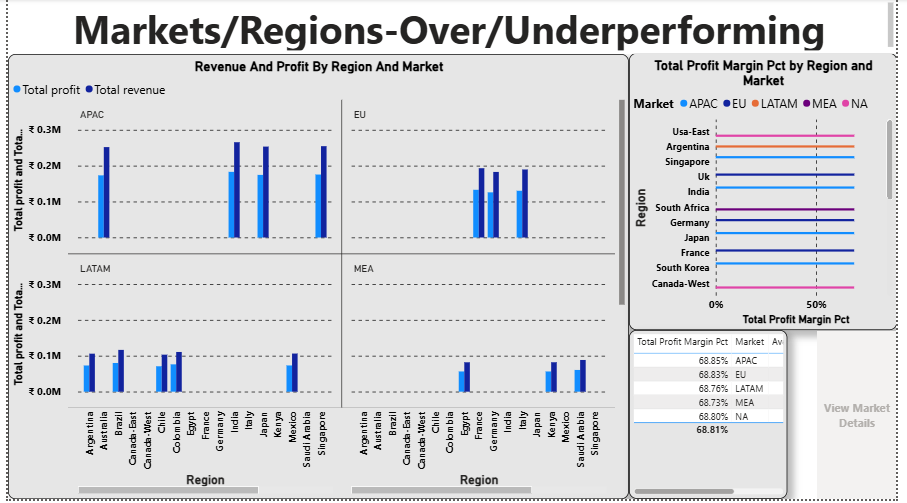

The page's visual inventory and layout, read from the dashboard file:
{"tool":"powerbi","page":{"name":"Market/Regions-Over/Under-performing","canvas":[1280,720],"ordinal":3},"visuals":[{"type":"clusteredColumnChart","title":"Revenue And Profit By Region And Market","fields":{"Category":["Telecom_RegionalPeople.Region"],"Y":["Measure.Total profit","Measure.Total revenue"],"Rows":["Telecom_Customers.Market"]},"box":[0,79.2,894.2,640.8],"z":0},{"type":"clusteredBarChart","fields":{"Category":["Telecom_RegionalPeople.Region"],"Y":["Measure.Total Profit Margin Pct"],"Series":["Telecom_Customers.Market"]},"box":[894.5,78.4,385.5,398.9],"z":1000},{"type":"textbox","box":[0,0,1280.2,79.2],"z":2000},{"type":"tableEx","fields":{"Values":["Measure.Total Profit Margin Pct","Telecom_Customers.Market","Measure.Average DaysToPay"]},"box":[894.2,476.6,227.5,243.4],"z":12000},{"type":"actionButton","box":[1164.8,478.2,115.2,242],"z":13000}]}

Visuals, with their boxes in screenshot pixels (x1, y1, x2, y2), scaled from the page's 1280x720 canvas onto the 907x503 screenshot:
"Revenue And Profit By Region And Market" clusteredColumnChart: [0,55,634,502]
clusteredBarChart - Telecom_RegionalPeople.Region x Measure.Total Profit Margin Pct: [634,55,906,333]
textbox: [0,0,906,55]
tableEx - Measure.Total Profit Margin Pct x Telecom_Customers.Market: [634,333,795,502]
actionButton: [825,334,906,502]
